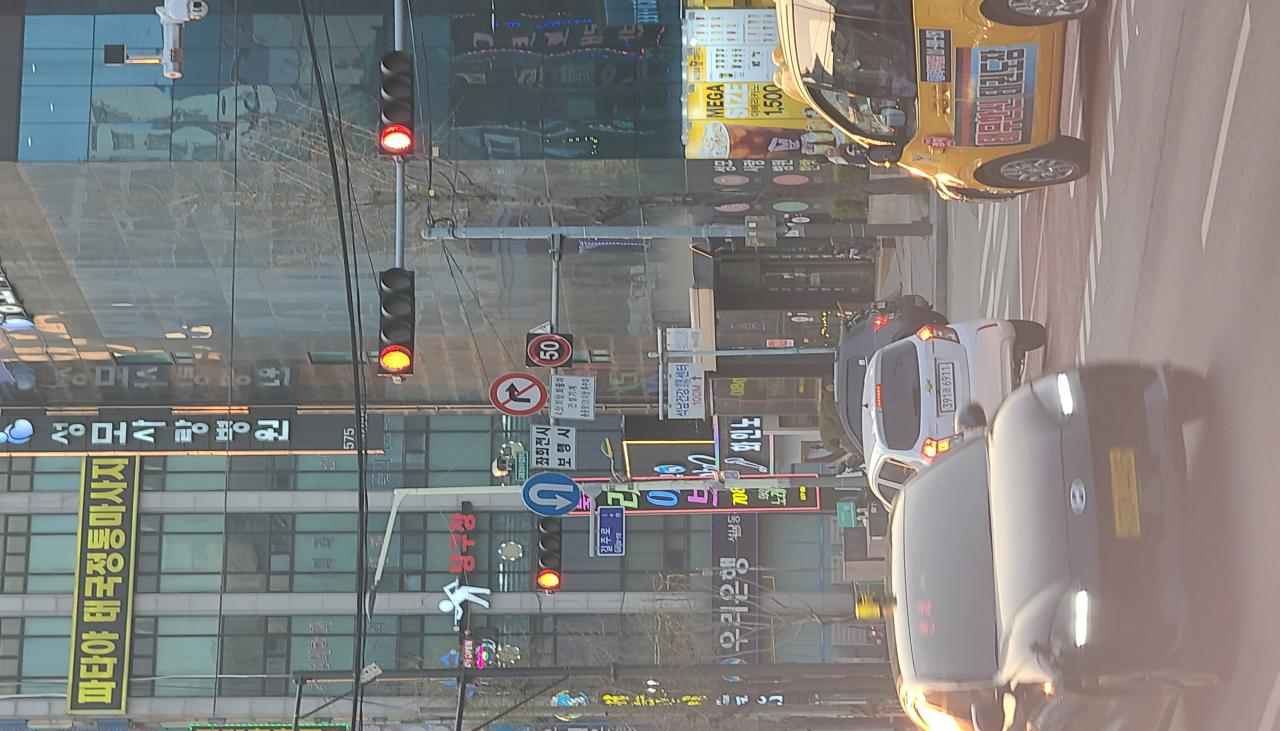Red Light: (466, 288, 508, 315), (758, 288, 798, 316), (187, 408, 211, 427)
